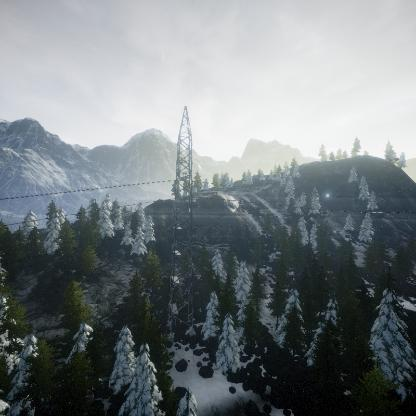tower: (165, 106, 195, 343)
